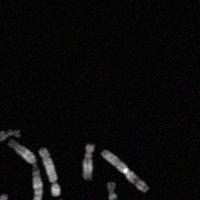chromosome: (101, 149, 149, 192), (8, 140, 42, 200), (39, 147, 60, 196), (82, 144, 93, 180), (0, 129, 19, 140), (107, 182, 117, 200), (0, 194, 7, 200)
